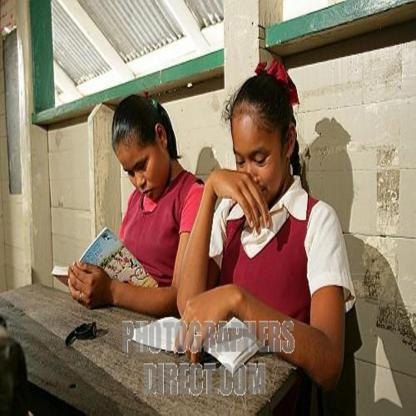face: (233, 117, 282, 207), (126, 140, 167, 202)
